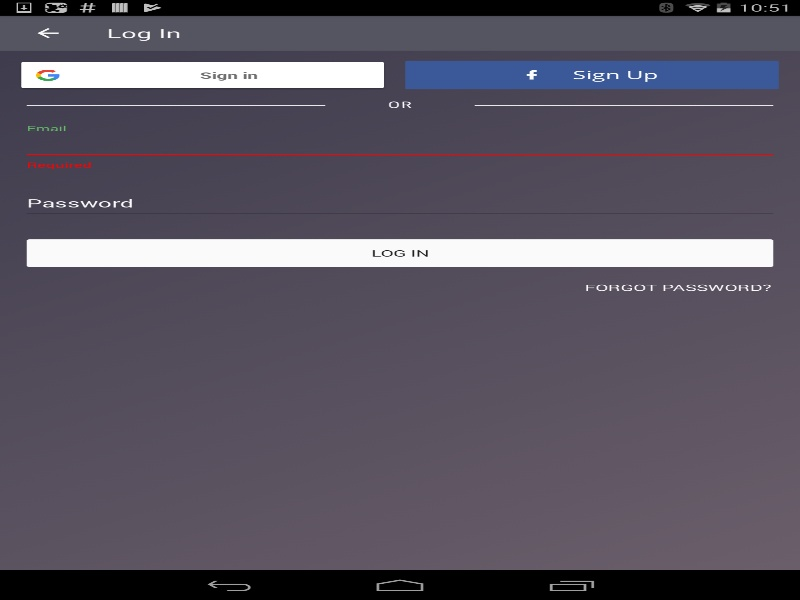Button: (21, 235, 778, 270), (16, 59, 389, 90), (405, 60, 778, 89), (568, 270, 786, 304), (10, 15, 85, 50)
Input: (21, 131, 778, 159), (21, 190, 778, 218)
